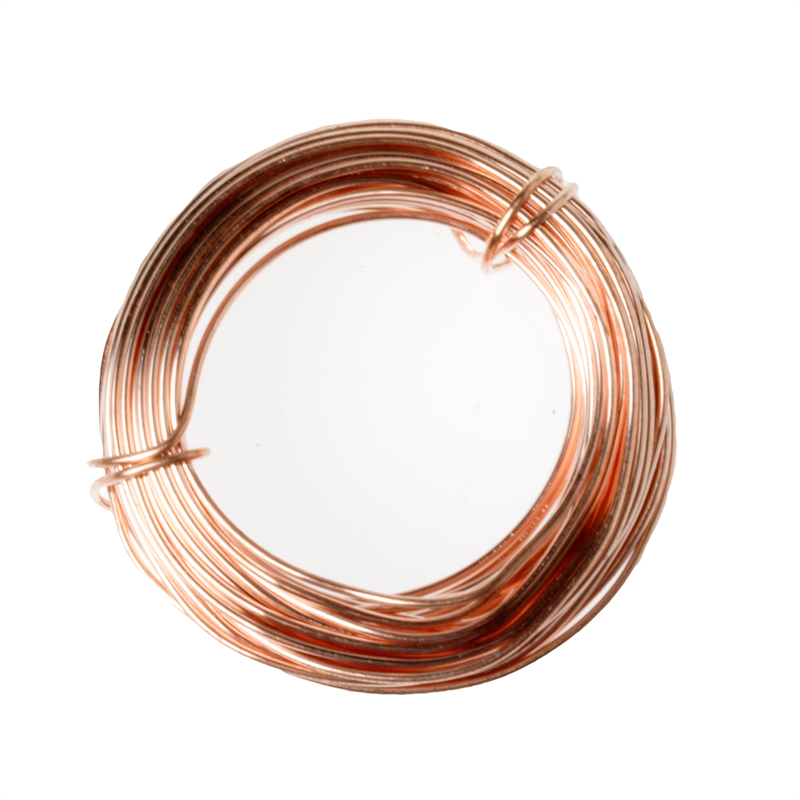Nonrec_Tangler: (53, 116, 706, 710)
